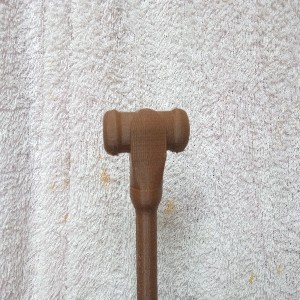palu: (102, 107, 190, 300)
